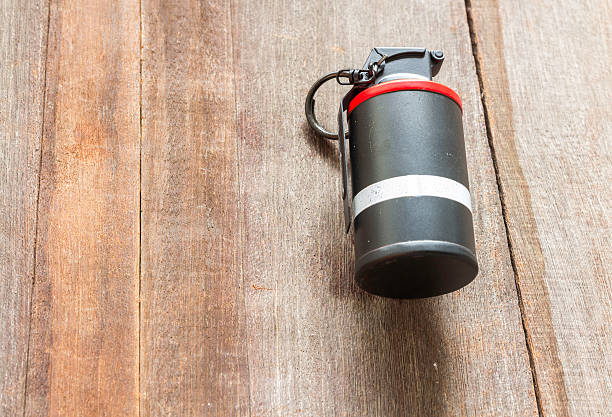e1: (303, 46, 480, 303)
